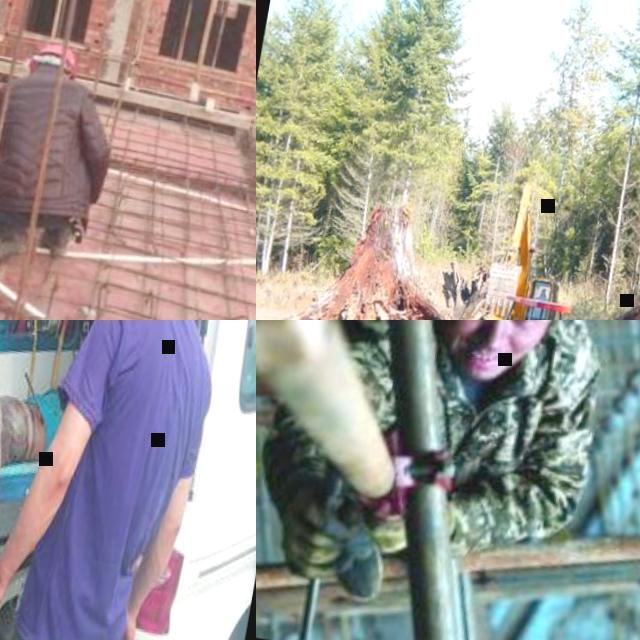helmet: (0, 320, 255, 640), (0, 320, 67, 640), (30, 40, 82, 77)
machinery: (464, 178, 581, 320), (445, 286, 584, 320)
no_mask: (430, 320, 545, 387)
no_vest: (18, 320, 205, 640), (350, 320, 583, 536), (0, 68, 105, 218)
person: (256, 320, 640, 640), (0, 26, 131, 278), (538, 288, 550, 300)
vehicle: (0, 320, 256, 640)
vest: (540, 294, 548, 301)
